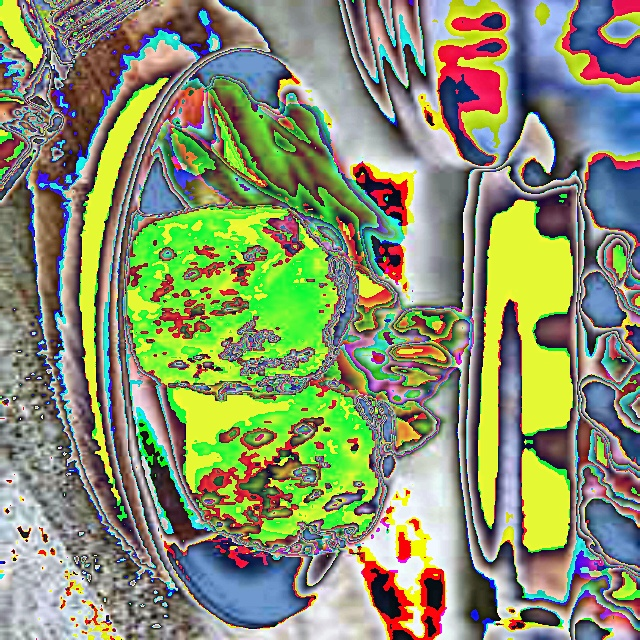background: (123, 76, 486, 556)
